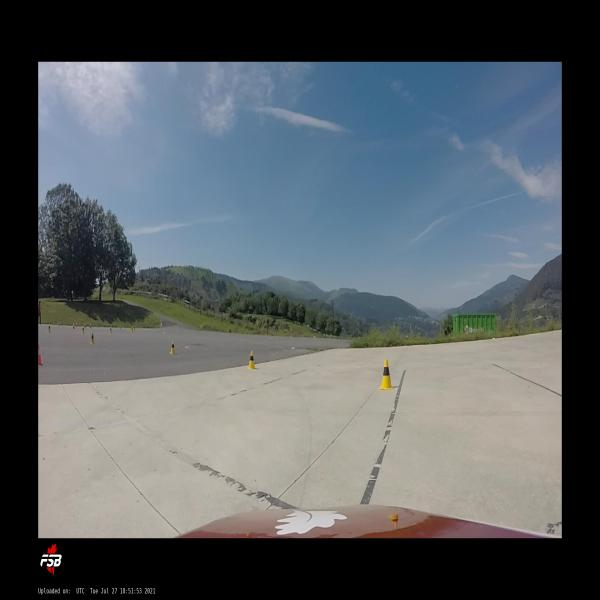orange_cone: (38, 342, 44, 366), (73, 323, 75, 329)
yellow_cone: (379, 359, 394, 390), (248, 351, 256, 369), (169, 340, 176, 355), (90, 333, 95, 344), (48, 324, 51, 334), (82, 323, 85, 332), (82, 326, 85, 335), (131, 326, 134, 332), (110, 326, 112, 334), (90, 323, 92, 328)
